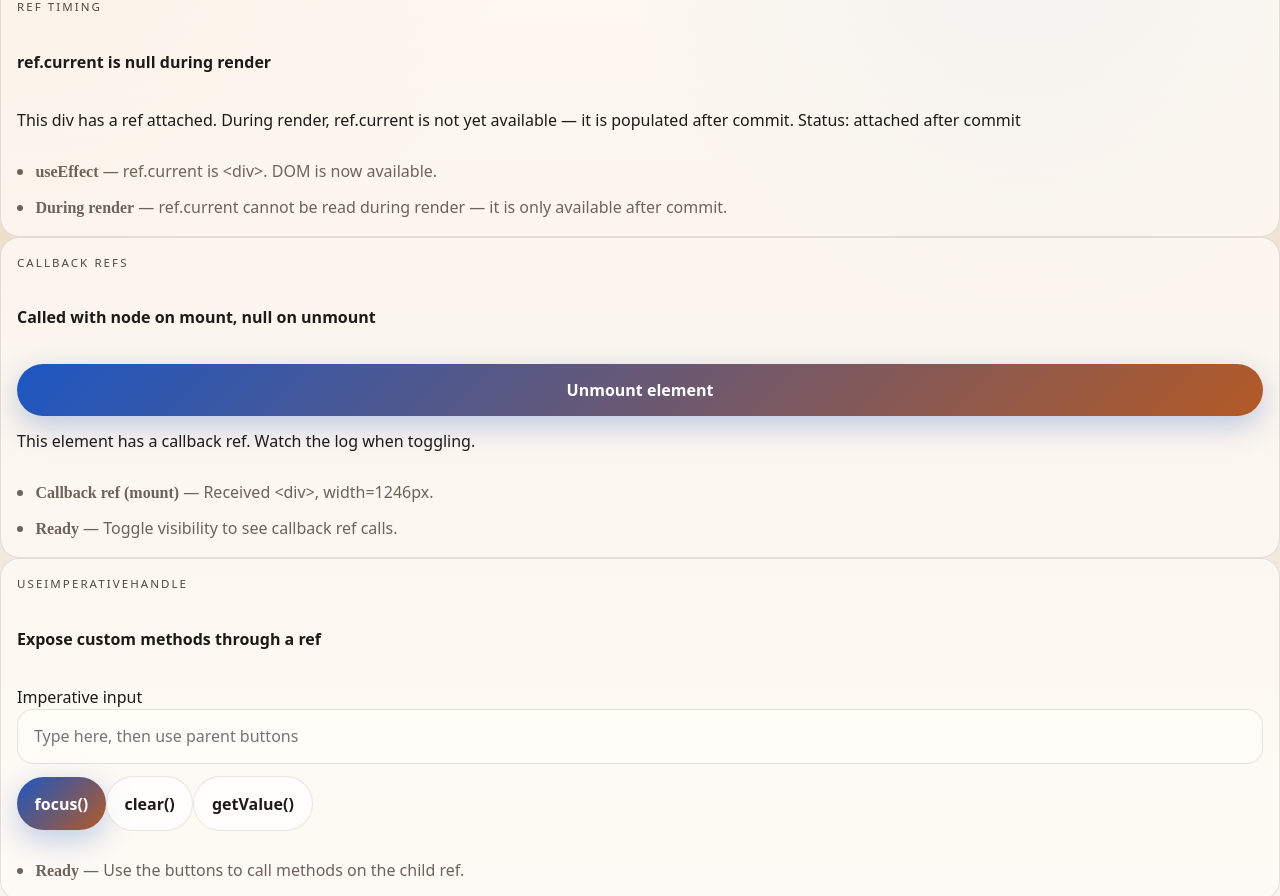
Test: ref timing sample › uses the imperative handle methods from the parent
The image size is (1280, 896).
(page scrolled)
Expected: the text "useImperativeHandle" is shown, [17,576,188,592]
Type "hello refs" into the field labelled "Imperative input" at x=640, y=736, box [17,709,1263,764]
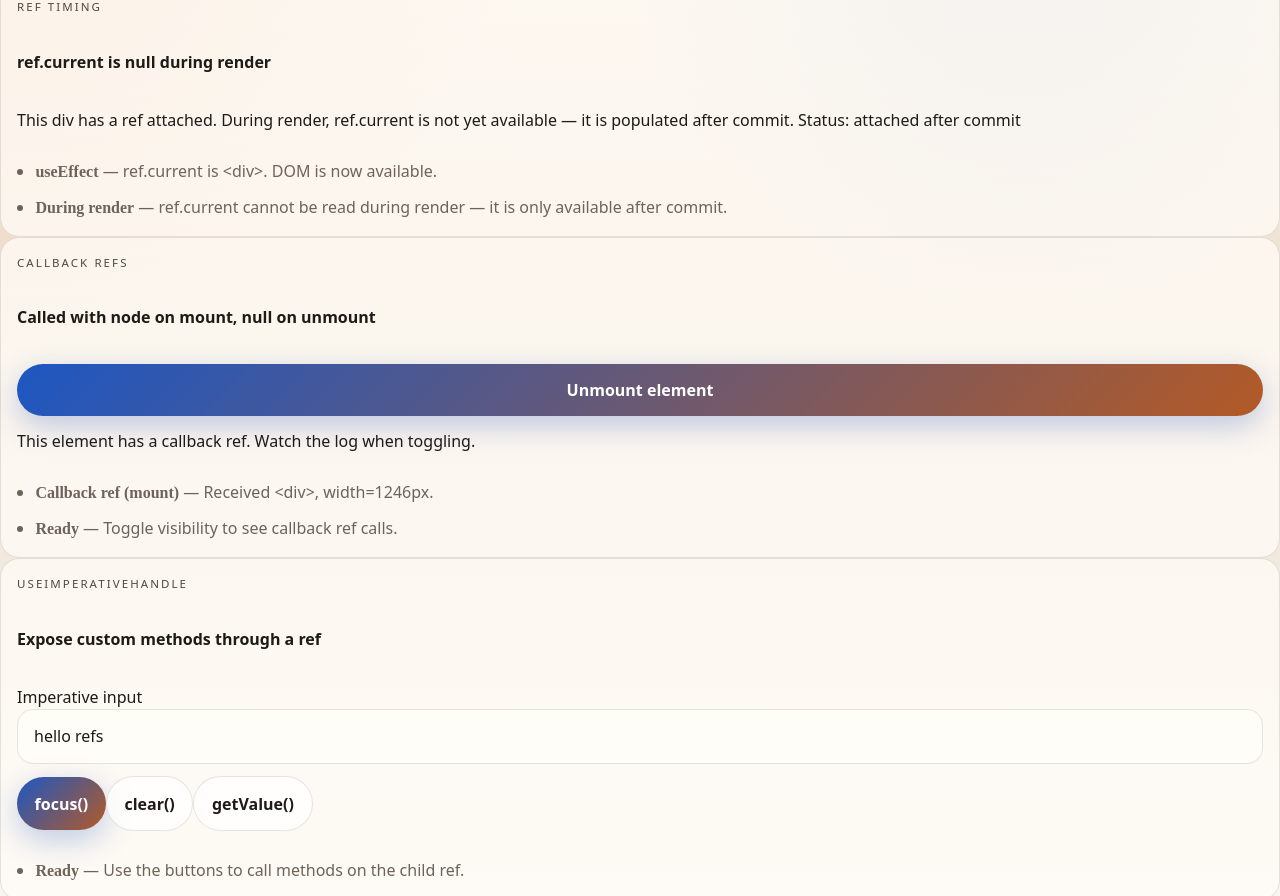
Click the button "getValue()" at x=253, y=804, box [193,776,313,831]
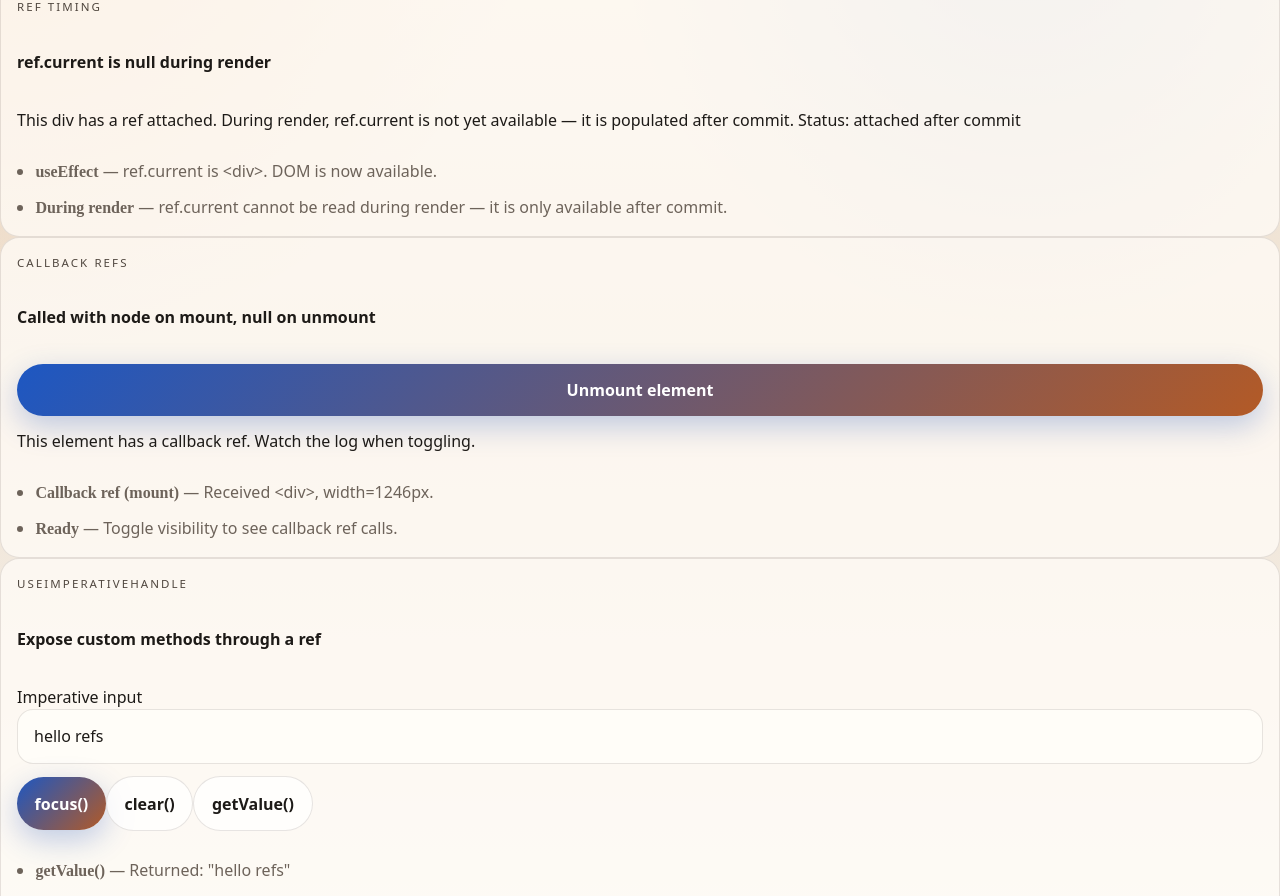
Expected: the list item "getValue() — Returned: \"hello refs\"" is shown, [35,859,290,881]
Click the button "focus()" at x=61, y=804, box [17,778,106,830]
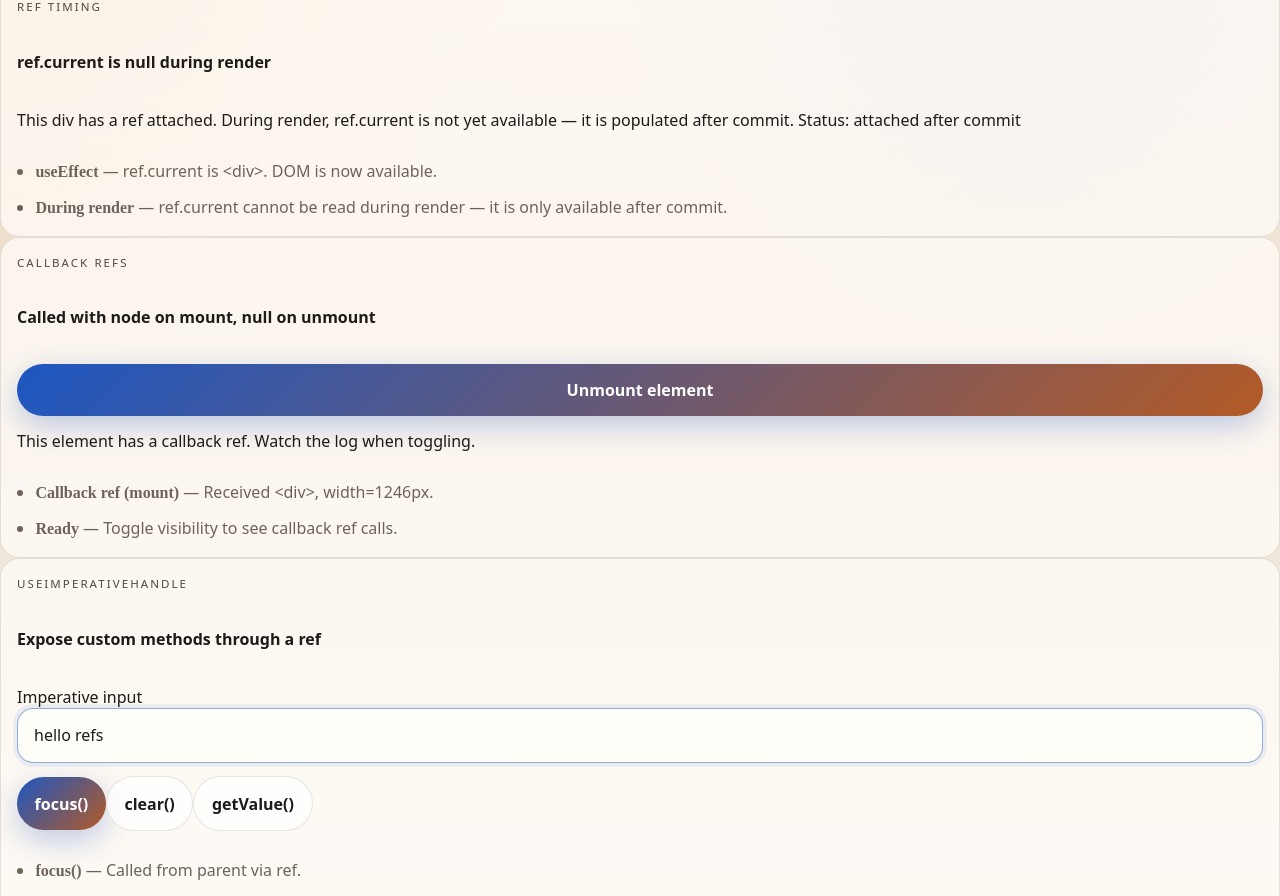
Expected: the list item "focus() — Called from parent via ref." is shown, [35,859,301,881]
Click the button "clear()" at x=150, y=804, box [106,776,193,831]
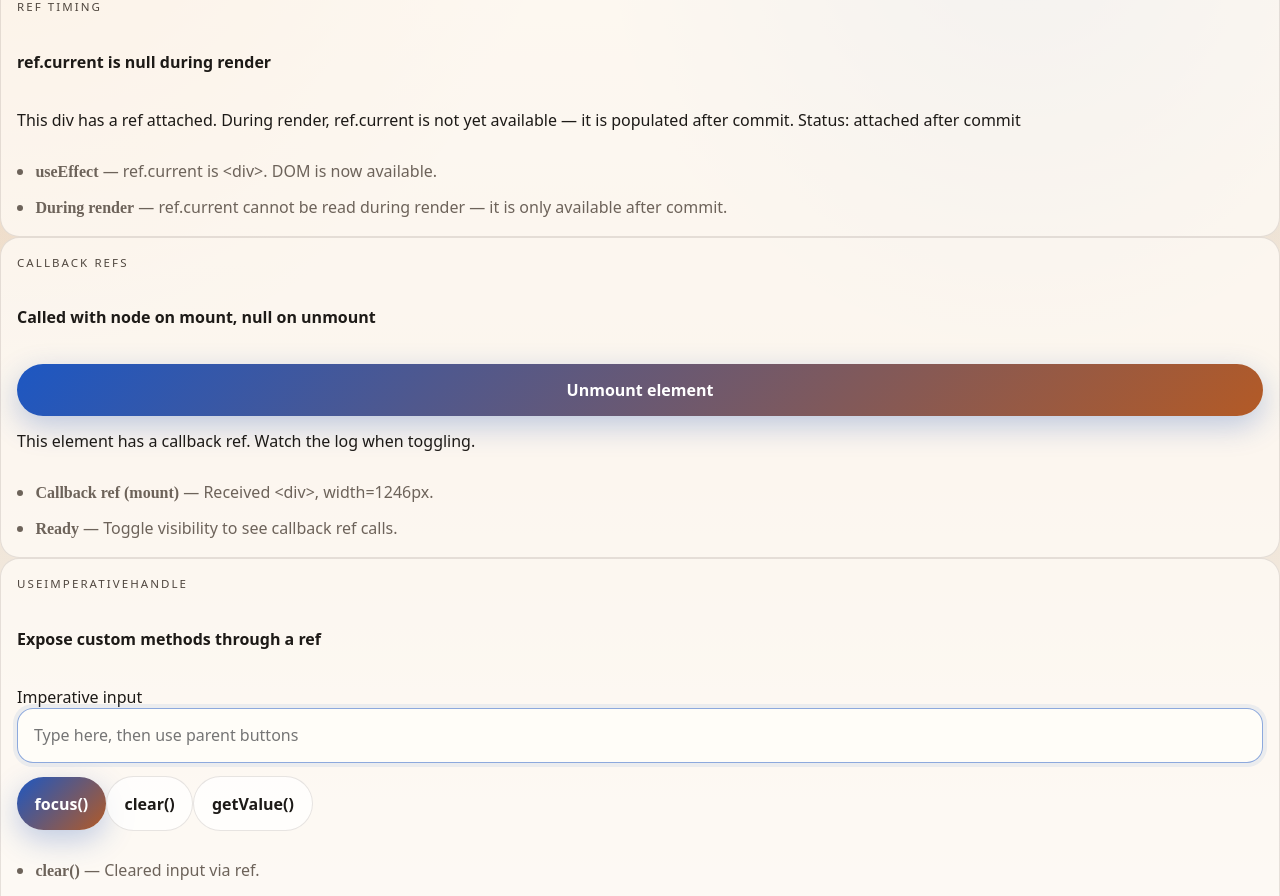
Expected: the field labelled "Imperative input" is empty, [17,708,1263,763]
Expected: the list item "clear() — Cleared input via ref." is shown, [35,859,260,881]
